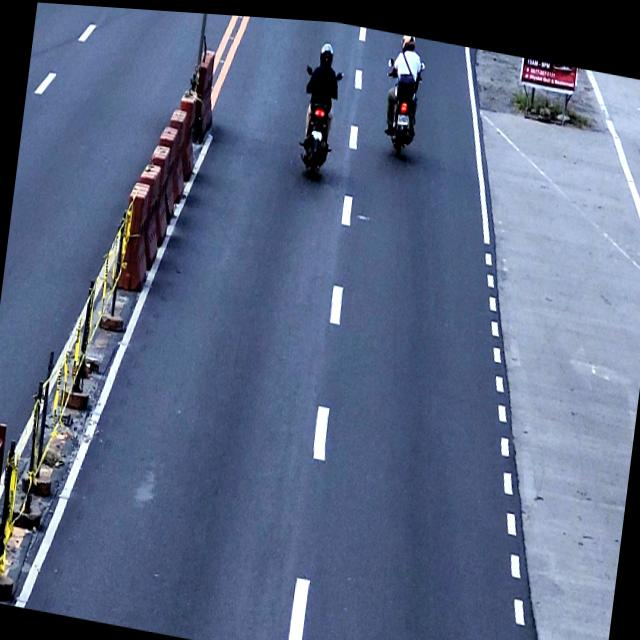License-Plate: (396, 107, 409, 120), (310, 125, 322, 136)
Motorcycle: (293, 58, 343, 177), (376, 47, 426, 156)
